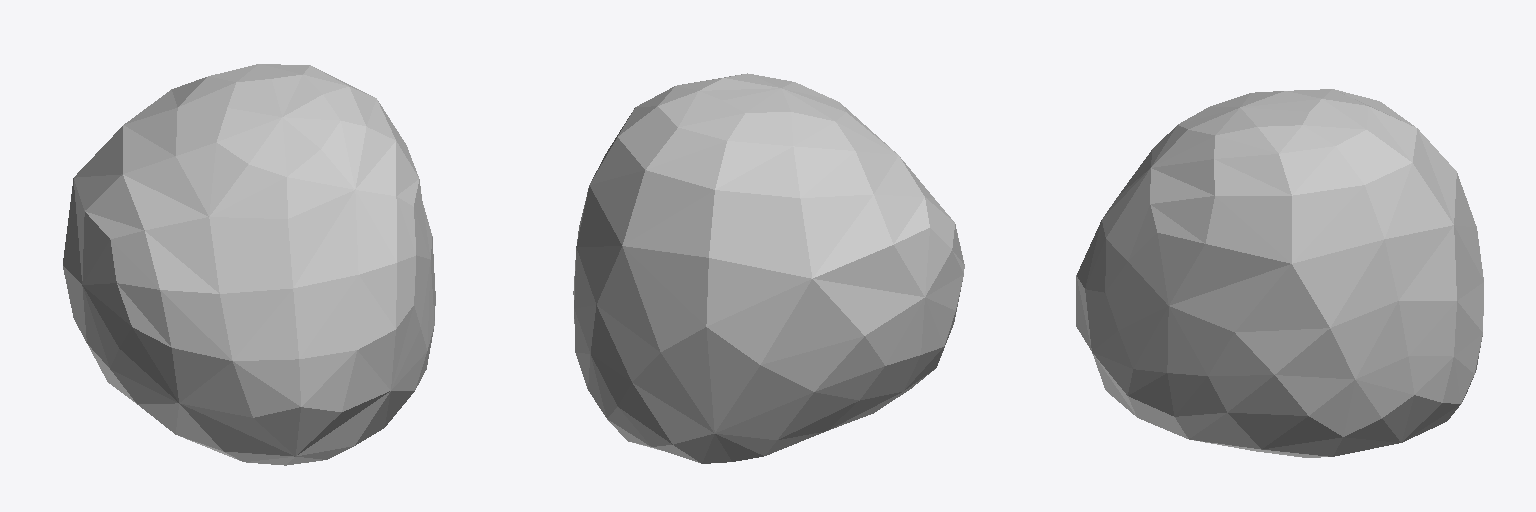
File: rock_round.obj
3 renders of one model, left to right at view 1: azimuth 30°, elevation 25°; view 2: azimuth 150°, elevation 25°; view 3: azimuth 270°, elevation 25°, orthographic.
Visible parts, largest first — view 1: pedra4; view 2: pedra4; view 3: pedra4.
Boxes of the visible parts, box(x1,y1,x2,y2) form: pedra4: box(63, 64, 435, 465); pedra4: box(573, 73, 964, 463); pedra4: box(1076, 89, 1483, 457).
Size of the model in its own units: 4.64 by 4.27 by 4.96.